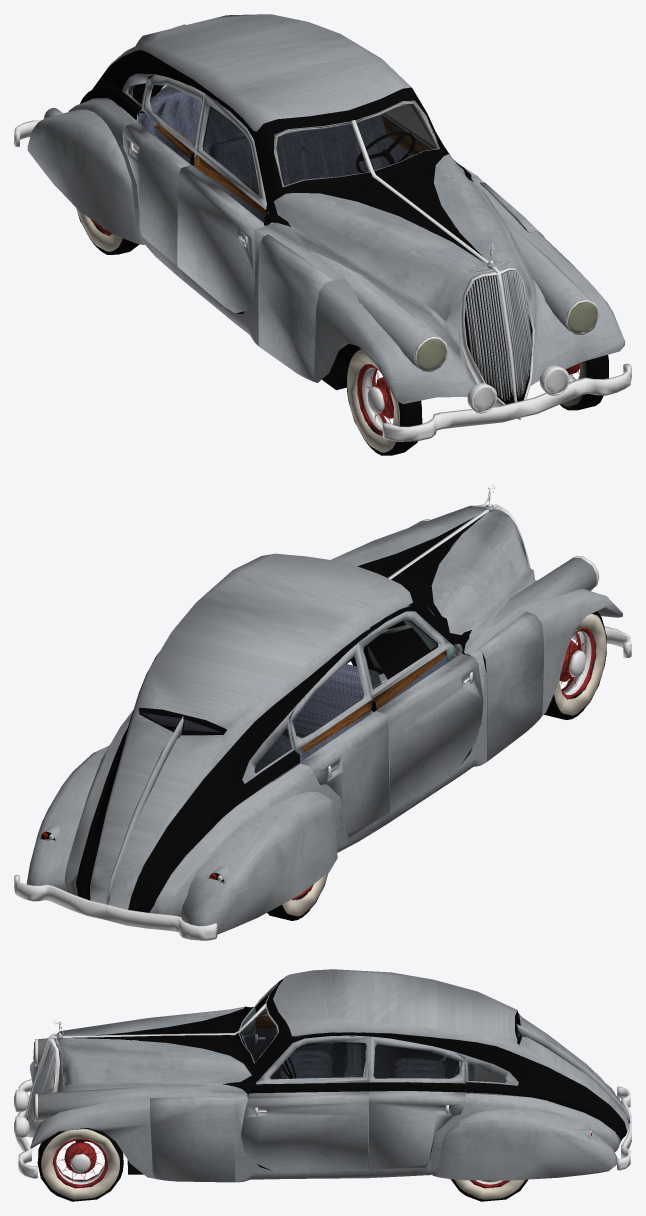
File: scene.lite.glb
The picture shows the model from 3 angles, top to bottom: view 1: azimuth 30°, elevation 25°; view 2: azimuth 150°, elevation 25°; view 3: azimuth 270°, elevation 25°; orthographic projection. The views are drawn at different scales.
Parts seen in each view (by area): view 1: Cube.001_silver _0, Cube.001_paint_0, Cube.004_chrome_0, Cube.004_fabric_0, Cube.001_glass_0, Cylinder.004_tyre texture bake_0, Cube.006_black_0, Cube.004_wood_0, Cylinder_headlight_0, Cylinder.004_spokes_0, Cylinder.002_fog light_0; view 2: Cube.001_silver _0, Cube.001_paint_0, Cube.004_chrome_0, Cube.004_fabric_0, Cube.001_glass_0, Cylinder.004_tyre texture bake_0, Cube.006_black_0, Cube.004_wood_0, Cylinder.004_spokes_0; view 3: Cube.001_silver _0, Cube.001_paint_0, Cube.001_glass_0, Cube.004_fabric_0, Cube.004_chrome_0, Cylinder.004_tyre texture bake_0, Cylinder.004_spokes_0.
Boxes of the visible parts, x1,y1,x2,y2 form: Cube.001_silver _0: [27, 14, 625, 403]; Cube.001_paint_0: [80, 50, 483, 261]; Cube.004_chrome_0: [14, 96, 631, 441]; Cube.004_fabric_0: [138, 85, 456, 240]; Cube.001_glass_0: [128, 83, 436, 195]; Cylinder.004_tyre texture bake_0: [76, 208, 608, 455]; Cube.006_black_0: [235, 152, 532, 404]; Cube.004_wood_0: [152, 111, 431, 215]; Cylinder_headlight_0: [416, 301, 597, 370]; Cylinder.004_spokes_0: [90, 219, 580, 436]; Cylinder.002_fog light_0: [474, 370, 567, 411]; Cube.001_silver _0: [26, 505, 622, 934]; Cube.001_paint_0: [76, 514, 485, 912]; Cube.004_chrome_0: [14, 504, 631, 940]; Cube.004_fabric_0: [144, 656, 456, 781]; Cube.001_glass_0: [142, 603, 438, 772]; Cylinder.004_tyre texture bake_0: [267, 611, 606, 920]; Cube.006_black_0: [41, 548, 553, 909]; Cube.004_wood_0: [301, 645, 446, 751]; Cylinder.004_spokes_0: [292, 627, 596, 900]; Cube.001_silver _0: [27, 969, 630, 1182]; Cube.001_paint_0: [72, 977, 627, 1140]; Cube.001_glass_0: [239, 988, 519, 1082]; Cube.004_fabric_0: [245, 1027, 474, 1156]; Cube.004_chrome_0: [15, 1003, 631, 1184]; Cylinder.004_tyre texture bake_0: [37, 1128, 527, 1201]; Cylinder.004_spokes_0: [52, 1138, 509, 1188].
Size of the model in its own units: 158 by 140 by 459.
Materials: 15 (4 with a texture image).
